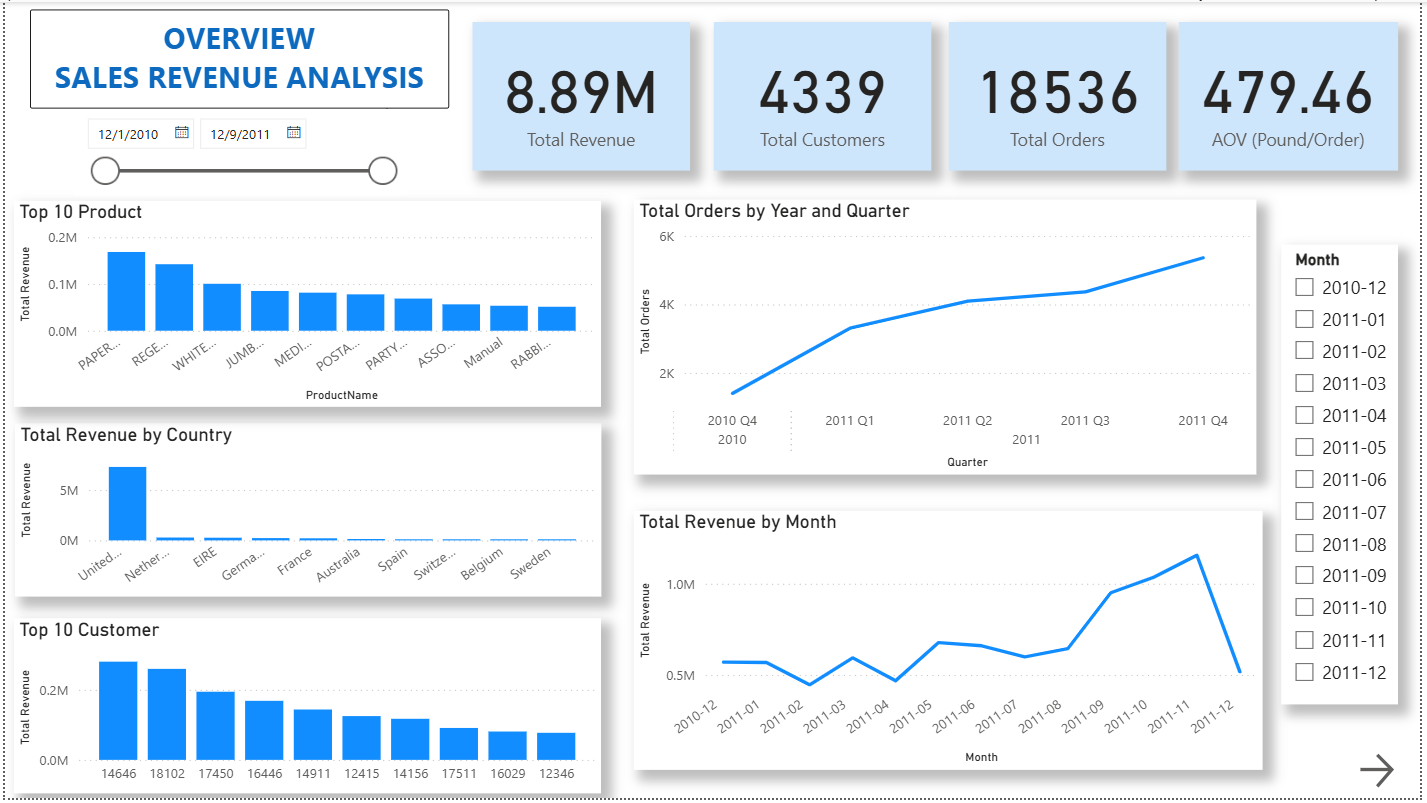

What the dashboard file says about the page in this screenshot:
{"tool":"powerbi","page":{"name":"Overview","canvas":[1280,720],"ordinal":0},"visuals":[{"type":"card","fields":{"Values":["Fact.Total Revenue"]},"box":[442.3,0,197.4,134.7],"z":0},{"type":"lineChart","fields":{"Y":["Fact.Total Revenue"],"Category":["Date.Year Hierarchy.Year","Date.Year Hierarchy.Quarter","Date.Year Hierarchy.Month"]},"box":[592.5,453.3,588.8,266.1],"z":1000},{"type":"columnChart","fields":{"Y":["Fact.Total Revenue"],"Category":["orders_detail.Country"]},"box":[0,359.4,563.3,170.8],"z":2000},{"type":"lineChart","fields":{"Category":["Date.Year Hierarchy.Year","Date.Year Hierarchy.Quarter","Date.Year Hierarchy.Month"],"Y":["Fact.Total Orders"]},"box":[577,172.9,584.6,266.3],"z":3000},{"type":"slicer","fields":{"Values":["Date.Month"]},"box":[1161.6,246.4,117.8,413.2],"z":4000},{"type":"columnChart","title":"Top 10 Customer","fields":{"Category":["orders_detail.CustomerID"],"Y":["Fact.Total Revenue"]},"box":[14,542.9,563.3,177.1],"z":5000},{"type":"card","fields":{"Values":["Fact.Total Customers"]},"box":[659.6,0,197.4,134.7],"z":6000},{"type":"card","fields":{"Values":["Fact.Total Orders"]},"box":[870.8,0,197.4,134.7],"z":7000},{"type":"card","fields":{"Values":["Fact.AOV"]},"box":[1082,0,197.4,134.7],"z":8000},{"type":"lineChart","title":"Top 10 Product ","fields":{"Category":["orders_detail.ProductName"],"Y":["Fact.Total Revenue"]},"box":[0,173,563,186],"z":9000},{"type":"slicer","fields":{"Values":["Date.Date"]},"box":[70.1,67.5,300.8,94.3],"z":10000},{"type":"textbox","box":[30.6,0,379.8,100.7],"z":11000}]}

Visuals, with their boxes in screenshot pixels (x1, y1, x2, y2), scaled from the page's 1280x720 canvas onto the 1427x803 screenshot:
card - Fact.Total Revenue: box(493, 0, 713, 150)
lineChart - Fact.Total Revenue x Date.Year Hierarchy.Year: box(661, 506, 1317, 802)
columnChart - Fact.Total Revenue x orders_detail.Country: box(0, 401, 628, 591)
lineChart - Date.Year Hierarchy.Year x Date.Year Hierarchy.Quarter: box(643, 193, 1295, 490)
slicer - Date.Month: box(1295, 275, 1426, 736)
"Top 10 Customer" columnChart: box(16, 605, 644, 802)
card - Fact.Total Customers: box(735, 0, 955, 150)
card - Fact.Total Orders: box(971, 0, 1191, 150)
card - Fact.AOV: box(1206, 0, 1426, 150)
"Top 10 Product " lineChart: box(0, 193, 628, 400)
slicer - Date.Date: box(78, 75, 413, 180)
textbox: box(34, 0, 458, 112)
